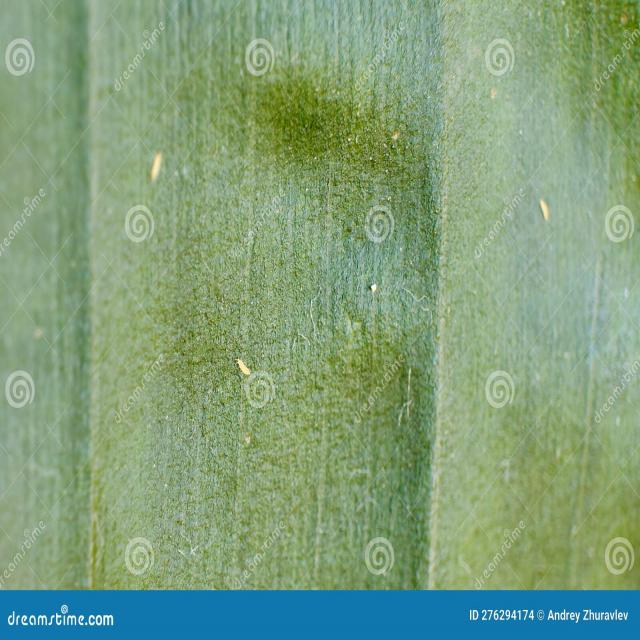Thrip-Larva-: (150, 146, 169, 183), (536, 190, 553, 229), (231, 348, 253, 377)
